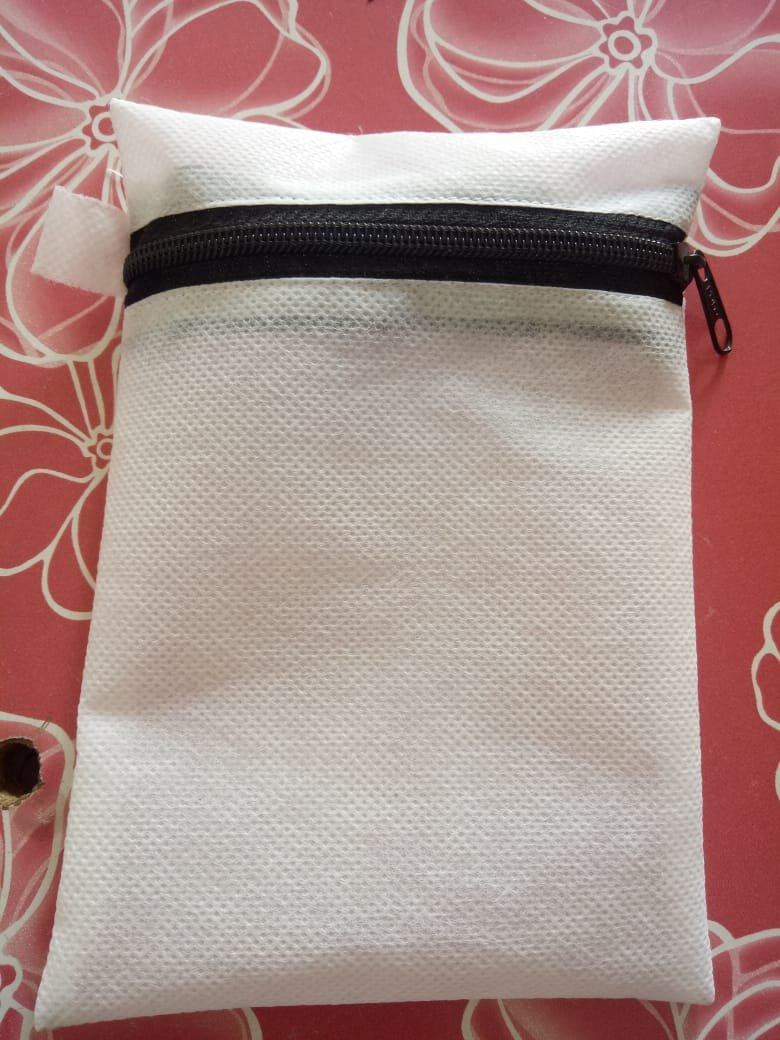clothbag: (28, 94, 720, 1034)
